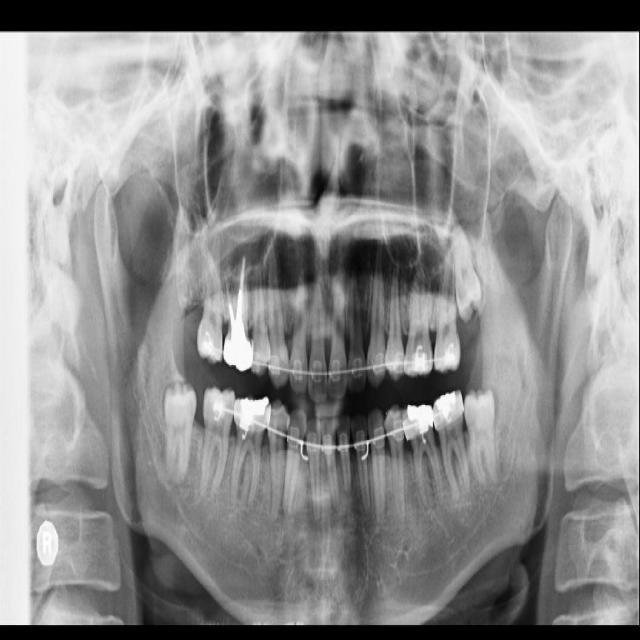52: (423, 387, 473, 435), (232, 397, 274, 441), (220, 329, 257, 373), (403, 401, 435, 443)
73: (224, 259, 250, 339), (588, 573, 590, 589)
BioHorizons Implant: (434, 249, 467, 373)
BioLife Implant: (449, 221, 484, 327)
Biomet 3i Implant: (464, 386, 498, 485)
Blue Sky Bio Implant: (429, 388, 473, 499)
Caries: (197, 230, 224, 366)
Implant: (198, 383, 237, 499)
Keystone Dental Implant: (160, 379, 198, 488)
